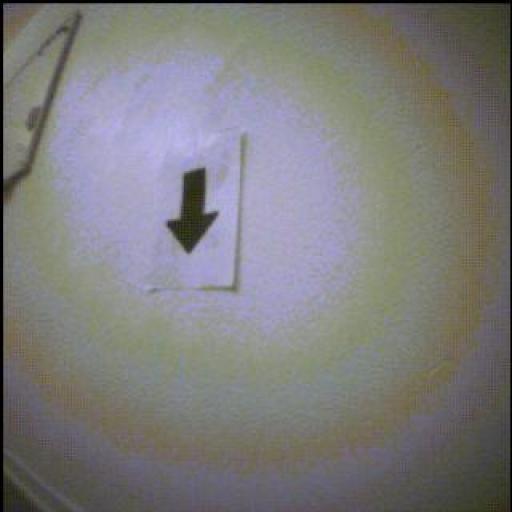arrow: (4, 13, 83, 200), (168, 169, 219, 254)
